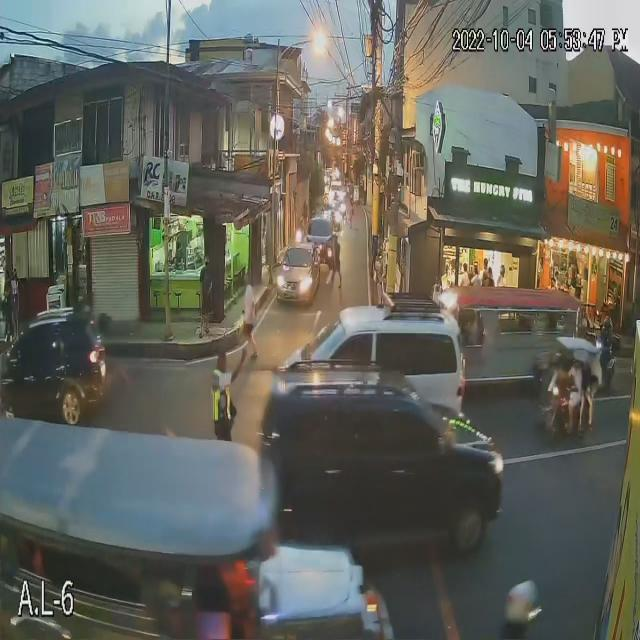helmet: (502, 576, 546, 624)
